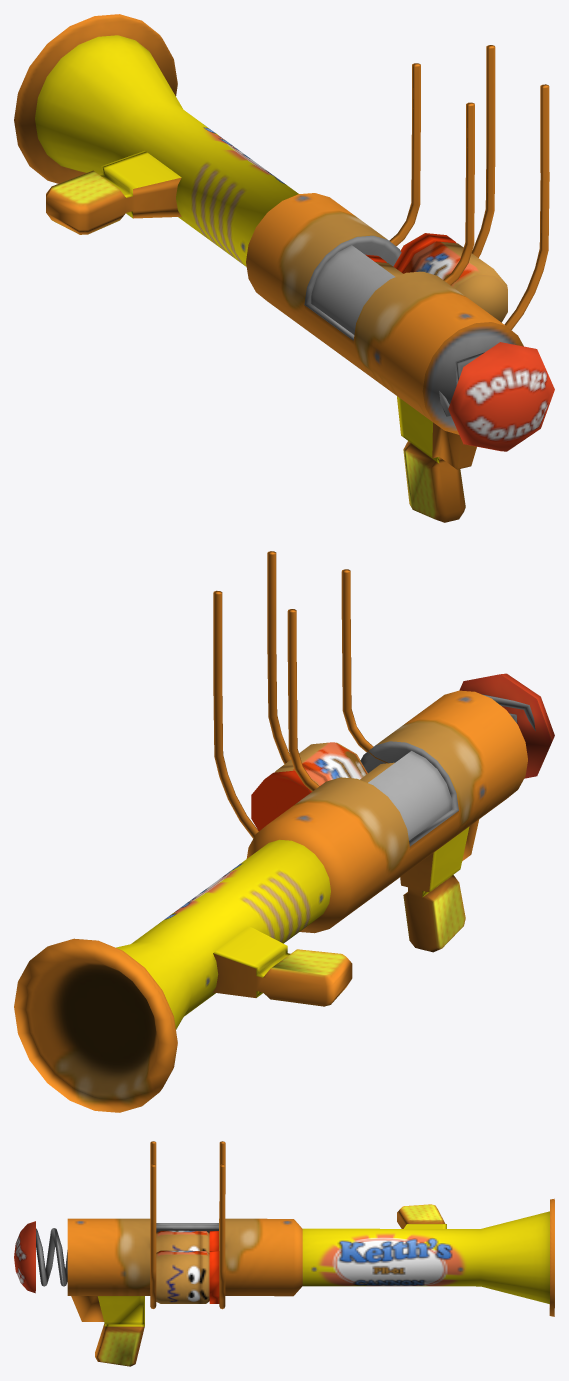
Rendered from pblauncher_1jar.obj.
The picture shows the model from 3 angles, top to bottom: view 1: azimuth 30°, elevation 25°; view 2: azimuth 150°, elevation 25°; view 3: azimuth 270°, elevation 25°; orthographic projection. The views are drawn at different scales.
Visible parts, largest first — view 1: pblauncher_1jar; view 2: pblauncher_1jar; view 3: pblauncher_1jar.
Boxes of the visible parts, x1,y1,x2,y2 form: pblauncher_1jar: [14, 14, 554, 522]; pblauncher_1jar: [14, 551, 554, 1112]; pblauncher_1jar: [14, 1141, 554, 1366].
Size of the model in its own units: 3.02 by 3.83 by 7.78.
Materials: 1 (1 with a texture image).
